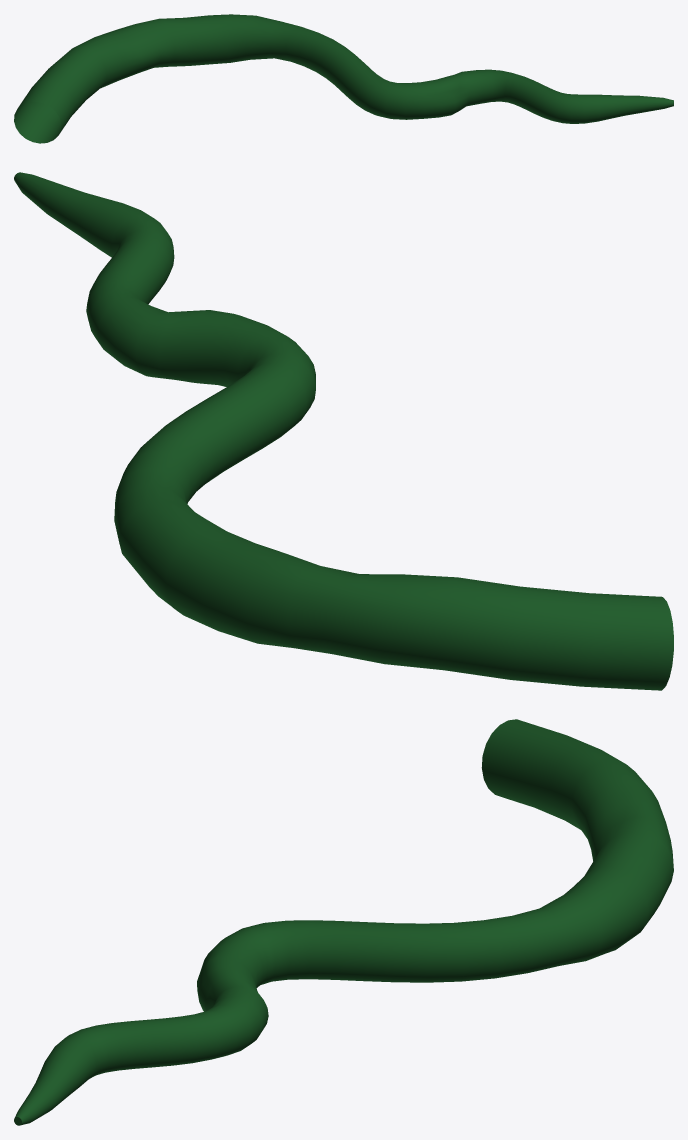
Rendered from Raiz 2.fbx.
3 views of the same model, one above another, from view 1: azimuth 30°, elevation 25°; view 2: azimuth 150°, elevation 25°; view 3: azimuth 270°, elevation 25° (orthographic). The views are drawn at different scales.
Visible parts, largest first — view 1: Raiz_2; view 2: Raiz_2; view 3: Raiz_2.
Boxes of the visible parts, x1,y1,x2,y2 form: Raiz_2: [14, 14, 673, 143]; Raiz_2: [14, 172, 673, 690]; Raiz_2: [14, 719, 673, 1125].
Size of the model in its own units: 14.56 by 1.59 by 10.26.
